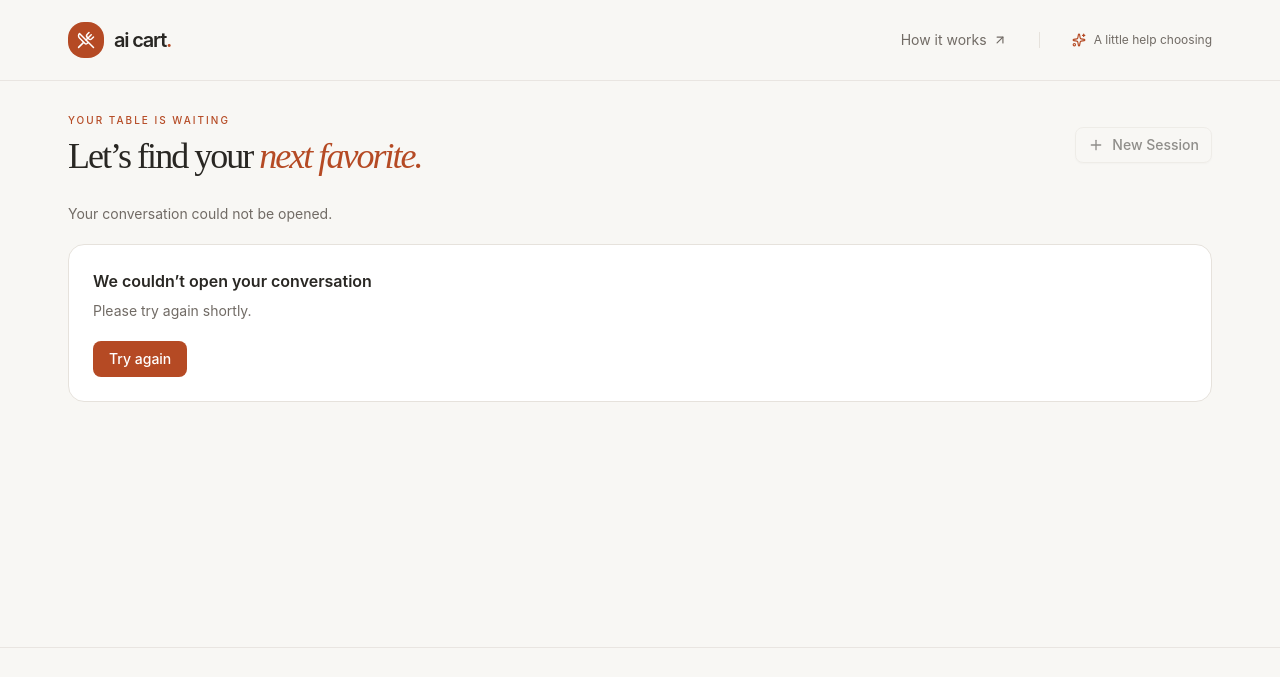
Test: stage 2 session experience › offers retry on failed restore without creating an extra session
The image size is (1280, 677).
Expected: the message "We couldn’t open your conversation Please try again shortly. Try again" is shown, [68,244,1212,402]
Click the button "Try again" at {"x": 140, "y": 359}, box [93,341,187,377]
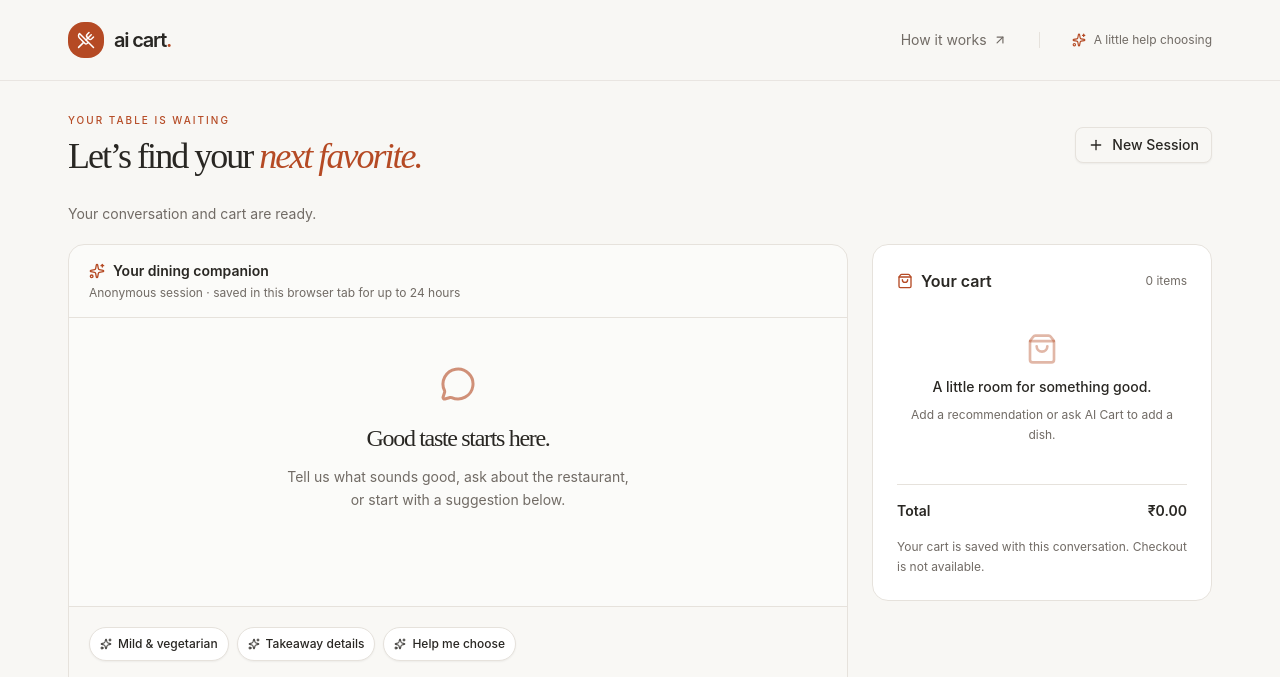
Expected: the heading "Your cart" is shown, [897,269,992,293]
